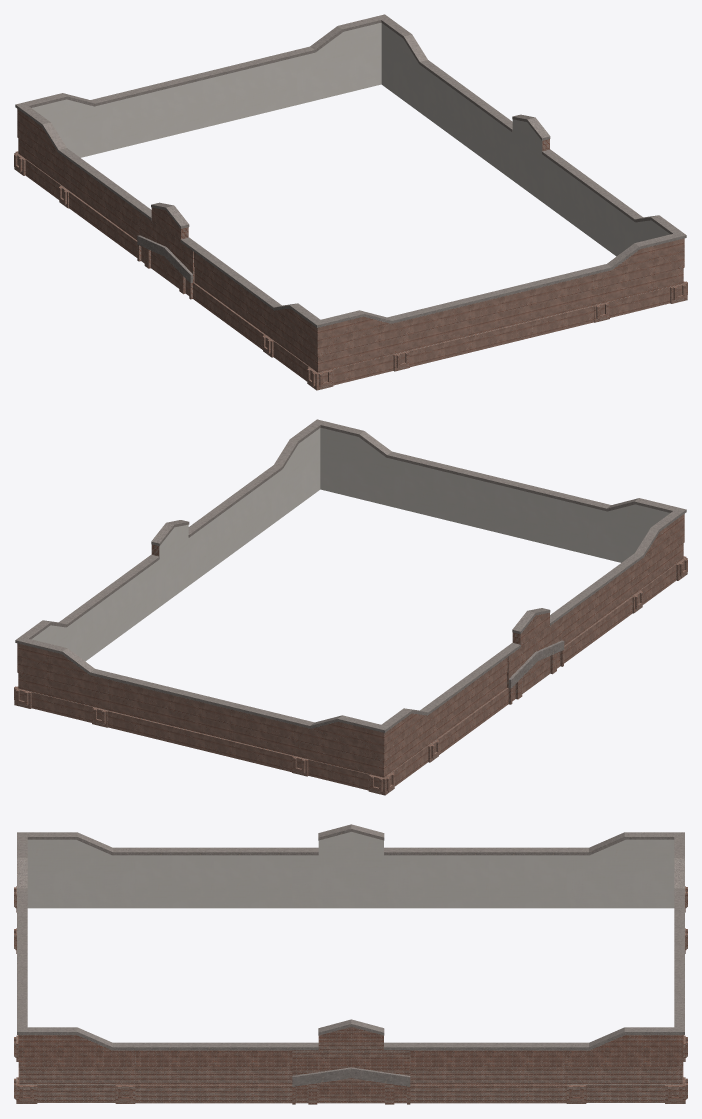
The model's file is BuildingB_Top_Shell_VarB.fbx.
3 renders of one model, top to bottom at view 1: azimuth 30°, elevation 25°; view 2: azimuth 150°, elevation 25°; view 3: azimuth 270°, elevation 25°, orthographic. The views are drawn at different scales.
Parts seen in each view (by area): view 1: BuildingB_Top_Shell_VarB; view 2: BuildingB_Top_Shell_VarB; view 3: BuildingB_Top_Shell_VarB.
Part boxes in pixels (x1=…): BuildingB_Top_Shell_VarB: x1=14, y1=14, x2=687, y2=390; BuildingB_Top_Shell_VarB: x1=14, y1=419, x2=687, y2=795; BuildingB_Top_Shell_VarB: x1=14, y1=824, x2=687, y2=1104.
Bounding box in the file's own units: 2436 × 448 × 3432.
